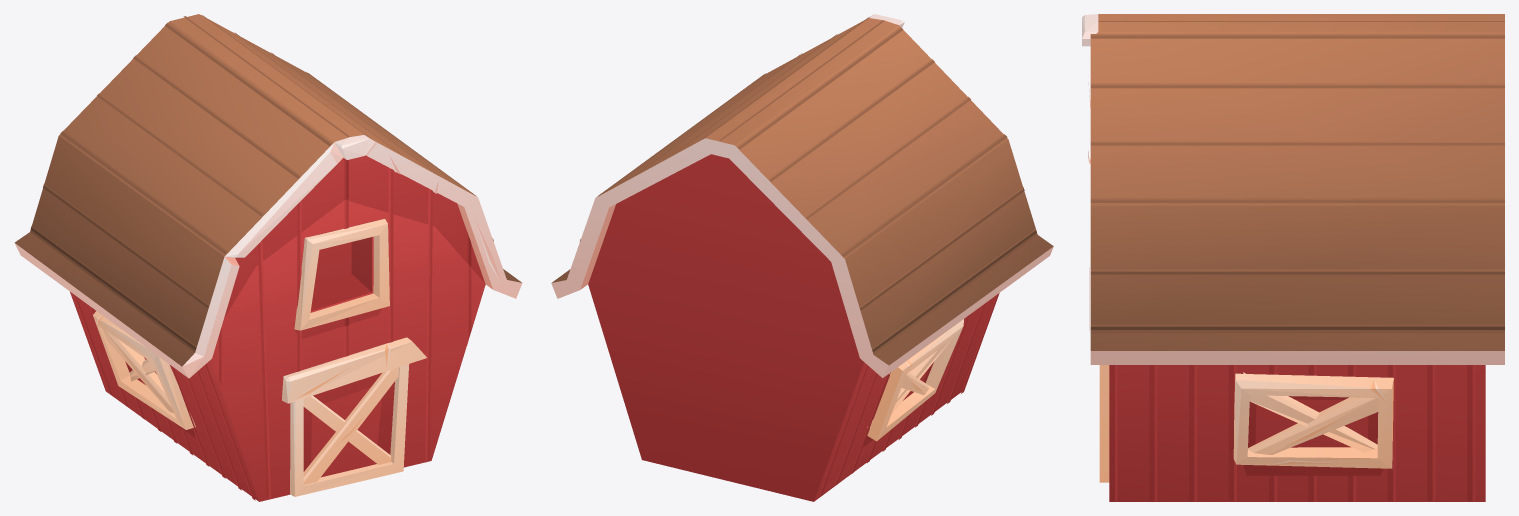
File: barnlvl2.glb
The picture shows the model from 3 angles, left to right: view 1: azimuth 30°, elevation 25°; view 2: azimuth 150°, elevation 25°; view 3: azimuth 270°, elevation 25°; orthographic projection. The views are drawn at different scales.
Parts seen in each view (by area): view 1: barnlvl2; view 2: barnlvl2; view 3: barnlvl2.
Boxes of the visible parts, left/top/right/bottom form: barnlvl2: left=14, top=14, right=522, bottom=501; barnlvl2: left=551, top=14, right=1053, bottom=501; barnlvl2: left=1082, top=14, right=1504, bottom=501.
Size of the model in its own units: 5.34 by 5.23 by 4.67.
Materials: 1 (1 with a texture image).
